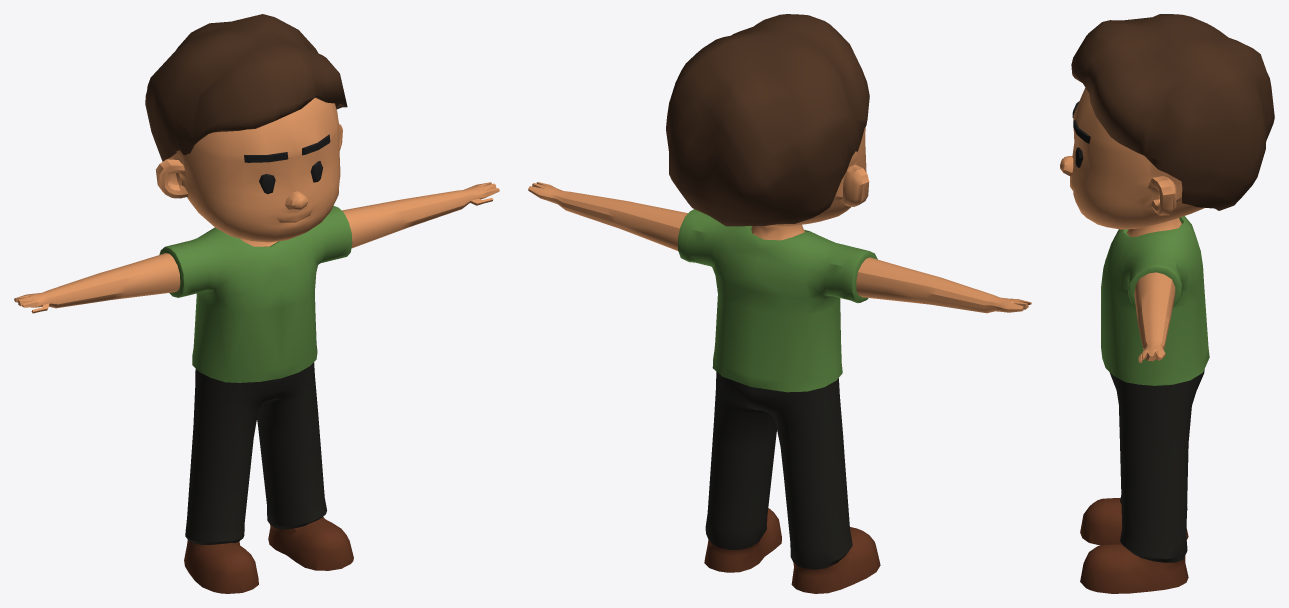
Rendered from roberto_carlos.fbx.
3 renders of one model, left to right at view 1: azimuth 30°, elevation 25°; view 2: azimuth 150°, elevation 25°; view 3: azimuth 270°, elevation 25°, orthographic. The views are drawn at different scales.
Parts seen in each view (by area): view 1: body.001; view 2: body.001; view 3: body.001.
Boxes of the visible parts, box(x1,y1,x2,y2) form: body.001: box(14, 14, 499, 593); body.001: box(528, 14, 1031, 593); body.001: box(1060, 14, 1274, 593).
Bounding box in the file's own units: 113 × 117 × 43.04.
